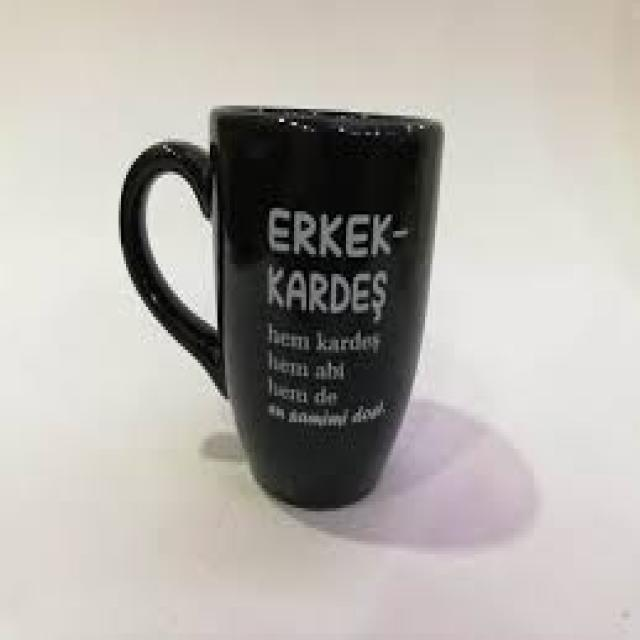taza: (117, 101, 446, 510)
